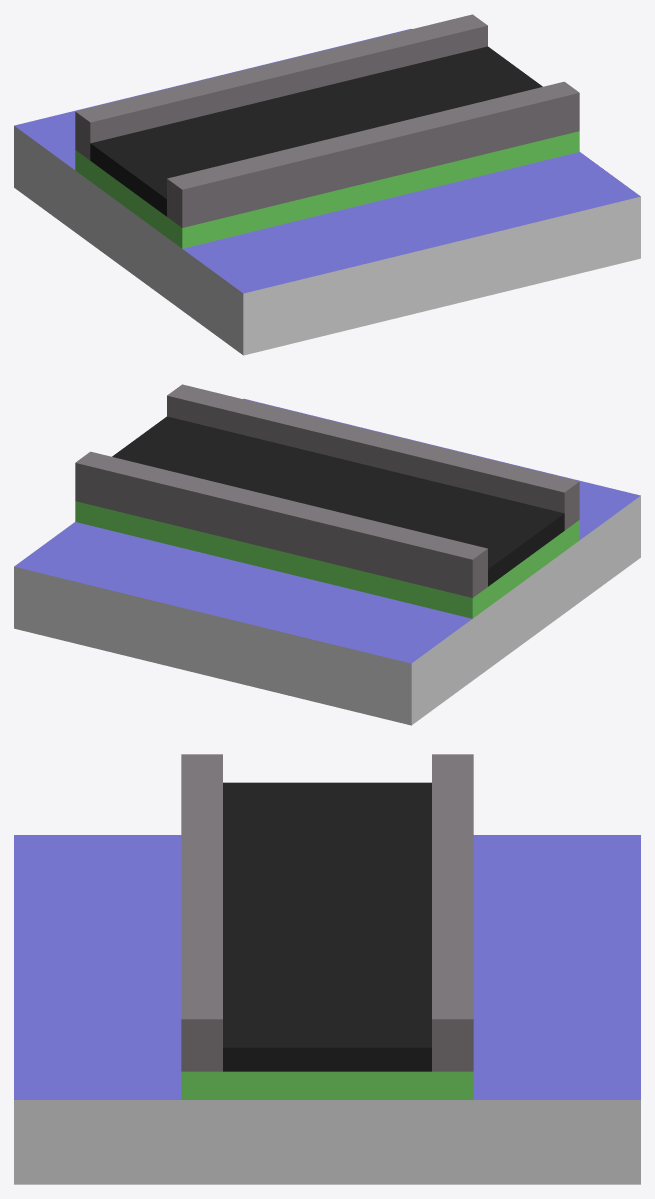
File: RoadStreetBridgeLake.fbx
3 views of the same model, one above another, from view 1: azimuth 30°, elevation 25°; view 2: azimuth 150°, elevation 25°; view 3: azimuth 270°, elevation 25° (orthographic). The views are drawn at different scales.
Parts seen in each view (by area): view 1: RoadStreetBridgeLake; view 2: RoadStreetBridgeLake; view 3: RoadStreetBridgeLake.
Part boxes in pixels (left/top/right/bottom): RoadStreetBridgeLake: left=14, top=14, right=640, bottom=355; RoadStreetBridgeLake: left=14, top=384, right=640, bottom=725; RoadStreetBridgeLake: left=14, top=754, right=640, bottom=1184.
Size of the model in its own units: 200 by 200 by 58.18.
